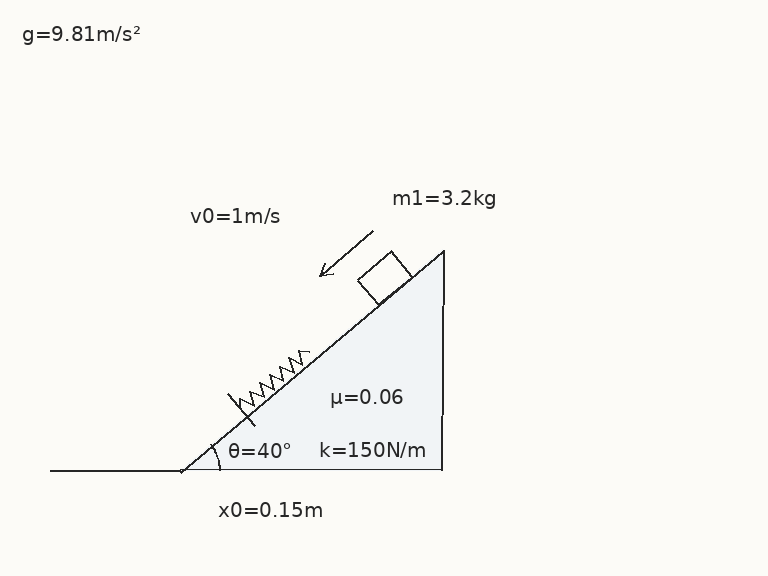block: (355, 249, 414, 306)
ramp: (178, 248, 445, 472)
spring: (238, 347, 310, 410)
